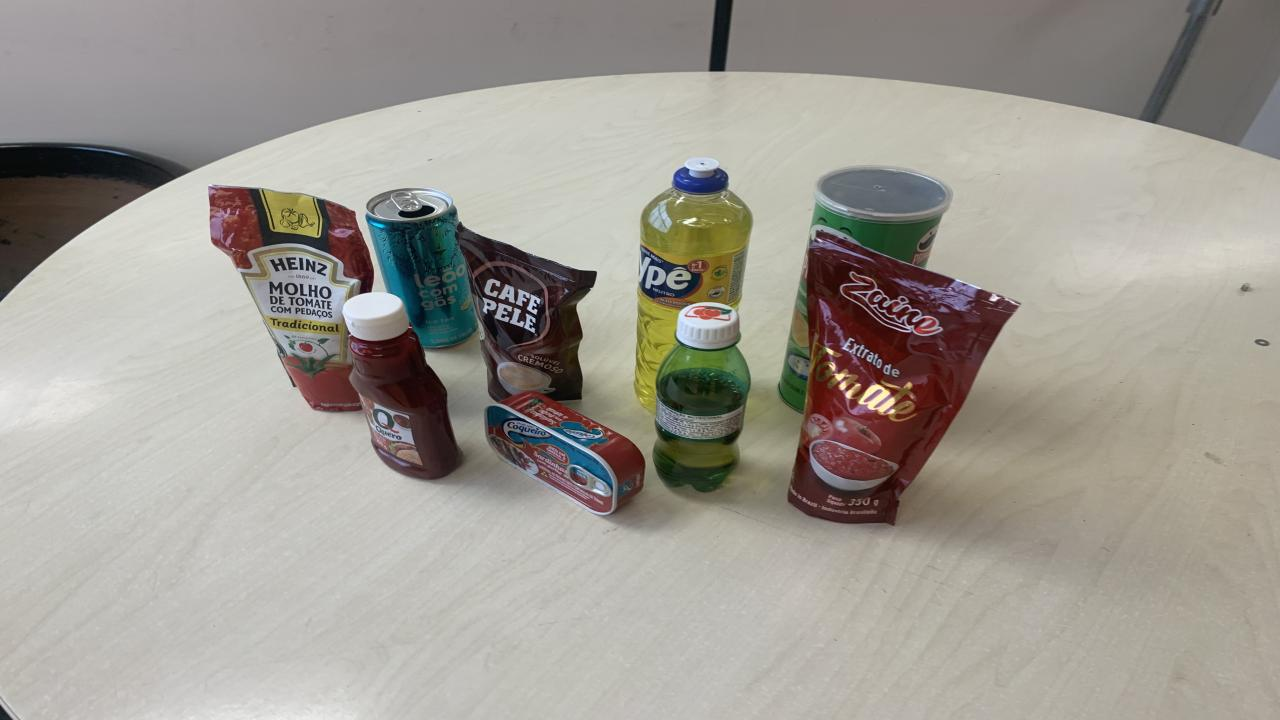Coffee-Pantry_Items: (455, 223, 598, 401)
Detergent-Cleanup_Items: (635, 158, 752, 409)
Guarana-Drinks: (652, 302, 750, 491)
Ketchup-Pantry_Items: (342, 292, 462, 480)
Pringles-Snacks: (812, 167, 952, 268), (780, 255, 810, 411)
Tea-Drinks: (365, 188, 478, 347)
Tomato_Sauce-Pantry_Items: (788, 227, 1018, 525), (210, 186, 372, 411)
Tuna_Can-Pantry_Items: (485, 392, 645, 514)
